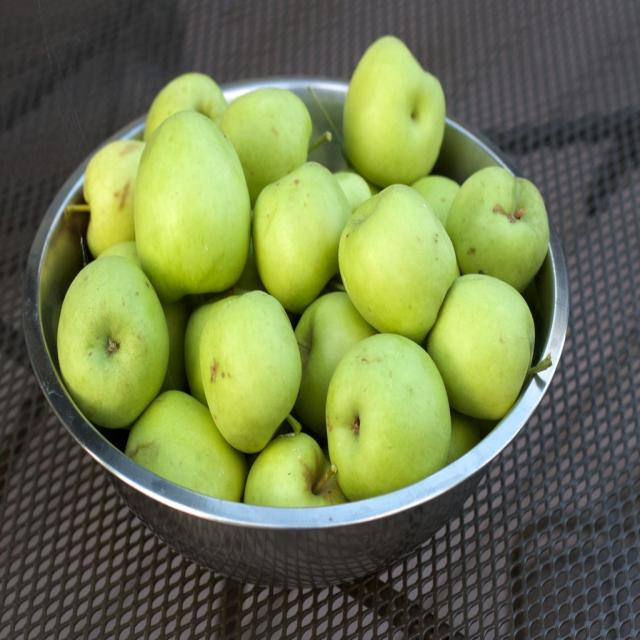Healty Apple: (54, 34, 550, 507), (327, 331, 452, 499)
